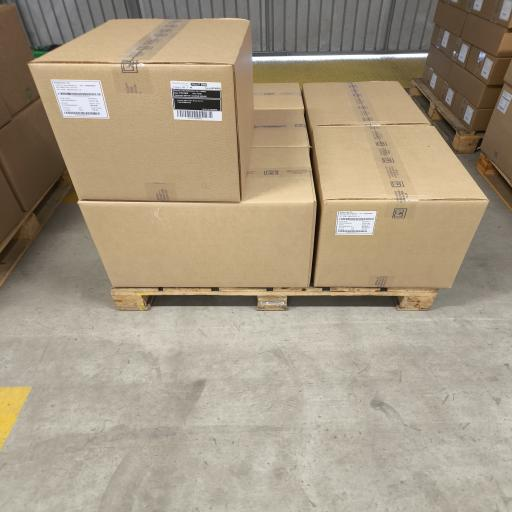pallet: (0, 173, 72, 285), (111, 287, 438, 310), (410, 79, 484, 153), (477, 153, 511, 210)
